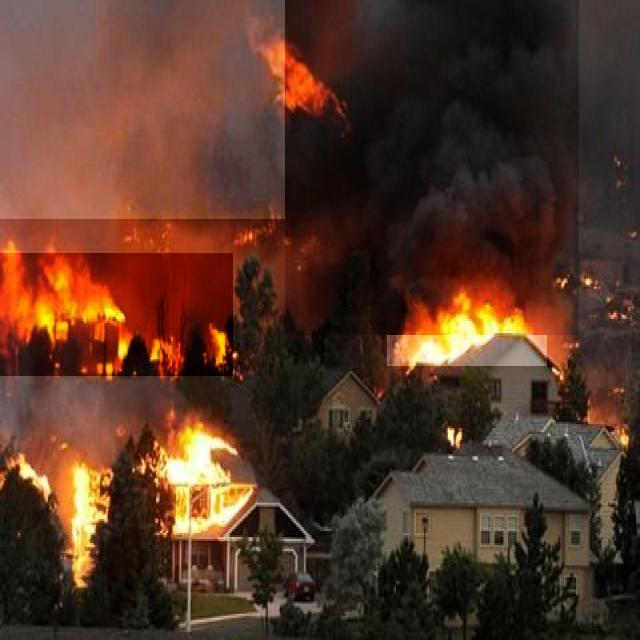Fire: (5, 423, 253, 582), (0, 253, 233, 376), (387, 299, 547, 366)
Smoke: (285, 0, 579, 335), (0, 0, 285, 219)
